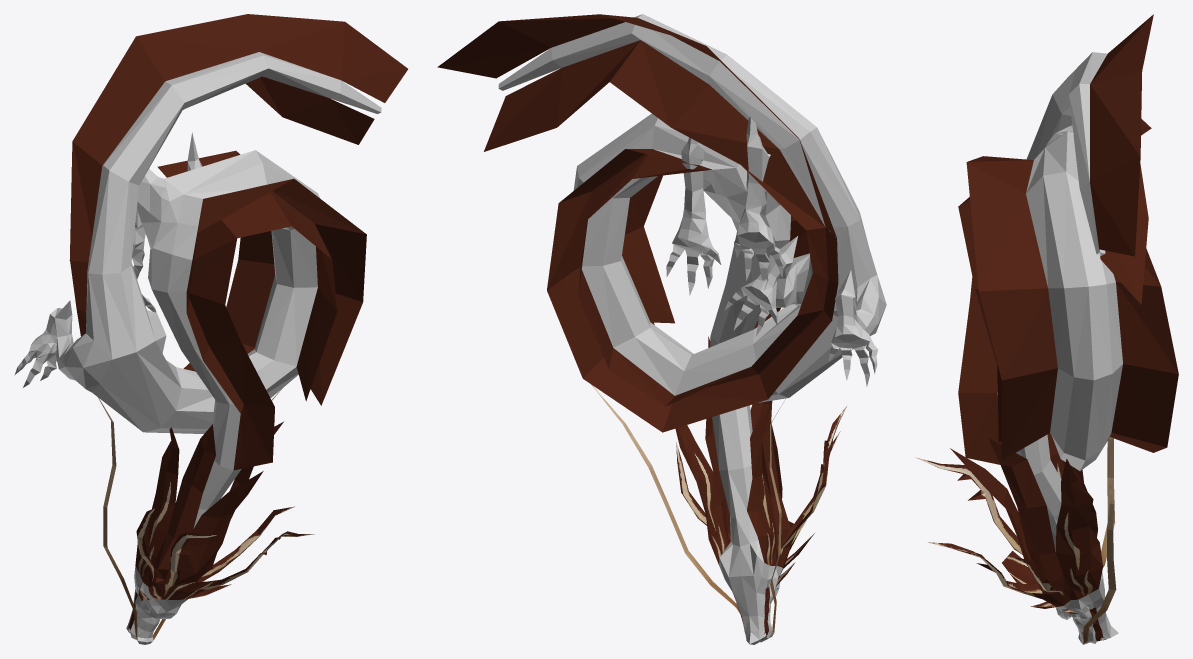
File: tx_summon_qinglongqiyue_hong_fire.obj
3 views of the same model, side by side, from view 1: azimuth 30°, elevation 25°; view 2: azimuth 150°, elevation 25°; view 3: azimuth 270°, elevation 25° (orthographic). The views are drawn at different scales.
Parts seen in each view (by area): view 1: boss_qinglong; view 2: boss_qinglong; view 3: boss_qinglong.
Boxes of the visible parts, x1,y1,x2,y2 form: boss_qinglong: (14, 14, 407, 644); boss_qinglong: (437, 14, 886, 644); boss_qinglong: (916, 14, 1178, 644).
Bounding box in the file's own units: 235 × 322 × 120.
